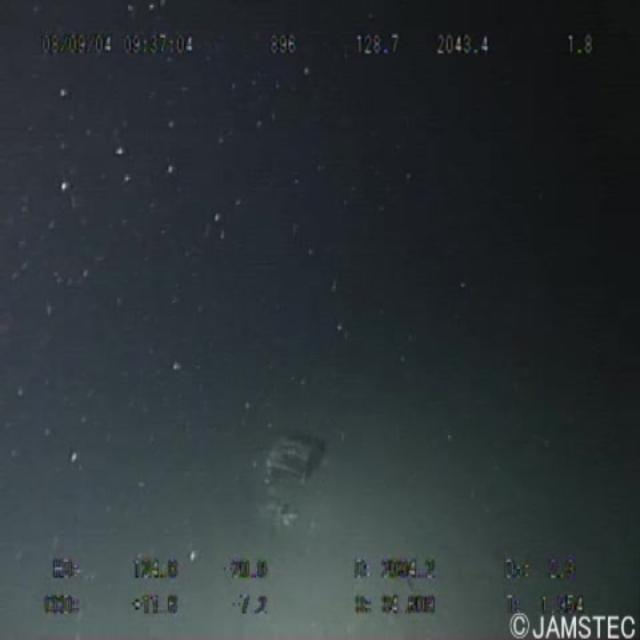Metal: (253, 430, 348, 501)
